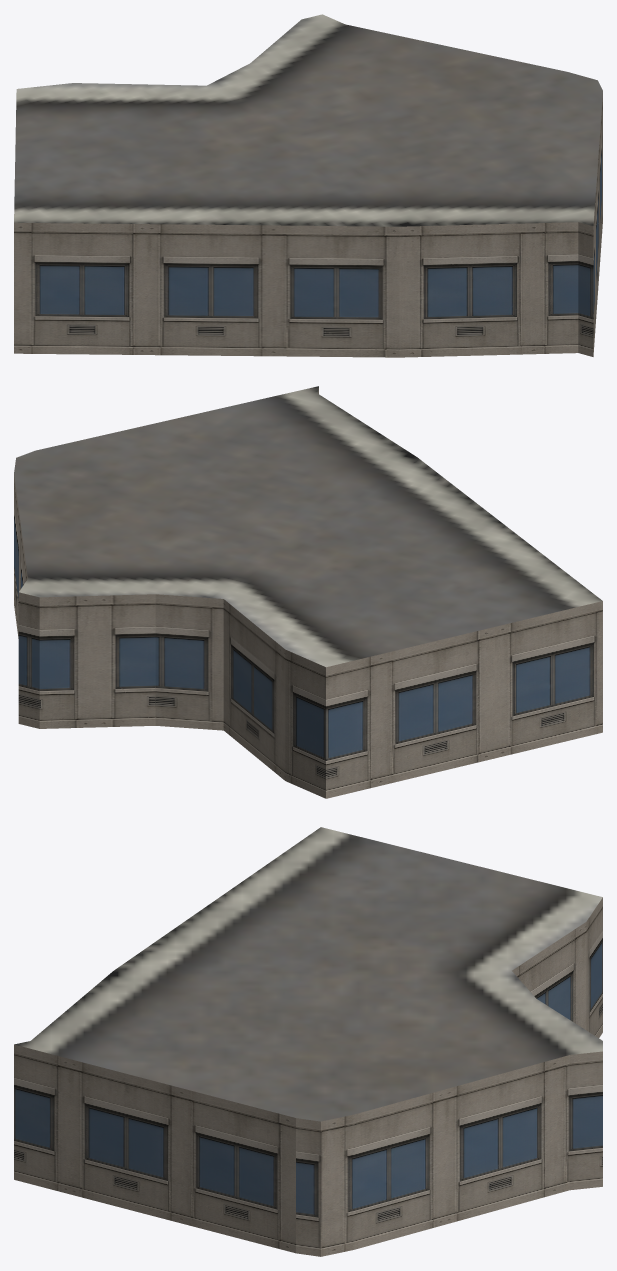
File: building_light_38.glb
3 views of the same model, one above another, from view 1: azimuth 30°, elevation 25°; view 2: azimuth 150°, elevation 25°; view 3: azimuth 270°, elevation 25° (orthographic). The views are drawn at different scales.
Parts seen in each view (by area): view 1: buildings/saxarba/building_light/building_light_38; view 2: buildings/saxarba/building_light/building_light_38; view 3: buildings/saxarba/building_light/building_light_38.
Part boxes in pixels (box(x1,y1,x2,y2)): buildings/saxarba/building_light/building_light_38: box(14, 14, 602, 357); buildings/saxarba/building_light/building_light_38: box(14, 386, 602, 798); buildings/saxarba/building_light/building_light_38: box(14, 827, 602, 1256).
Size of the model in its own units: 84 by 18 by 71.
